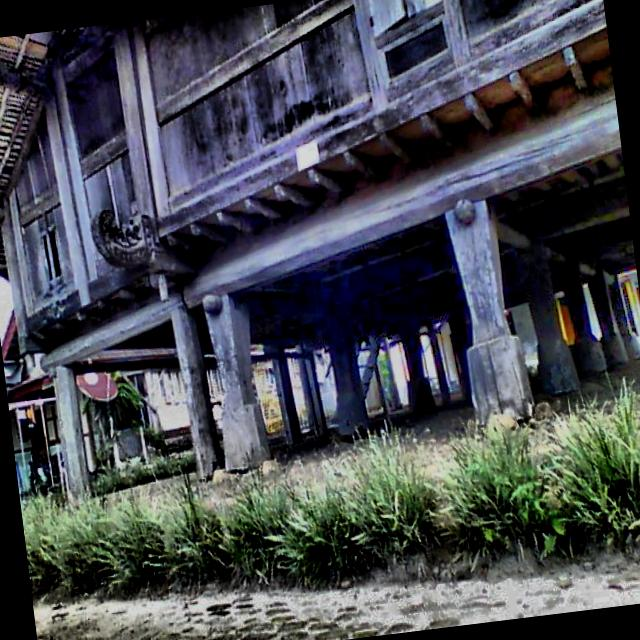column: (445, 199, 535, 426), (203, 295, 270, 468), (171, 308, 221, 481), (528, 291, 580, 396), (51, 366, 90, 503), (328, 340, 370, 433), (563, 285, 605, 374), (588, 278, 627, 364), (607, 273, 640, 359), (272, 357, 301, 444), (402, 337, 435, 411), (298, 356, 326, 432), (429, 335, 451, 405)
ornamen: (91, 209, 155, 266)
roof: (0, 27, 83, 209)
wall: (2, 0, 611, 352)
window: (368, 0, 442, 37), (43, 229, 61, 280)
